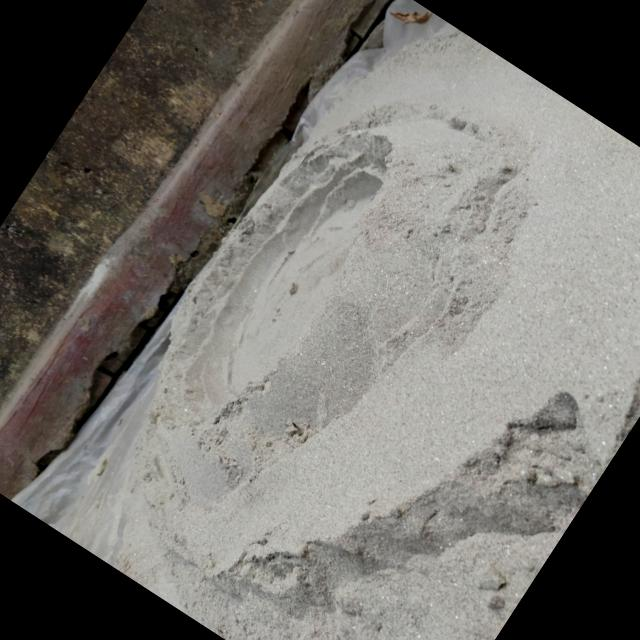C40: (202, 158, 383, 409)
